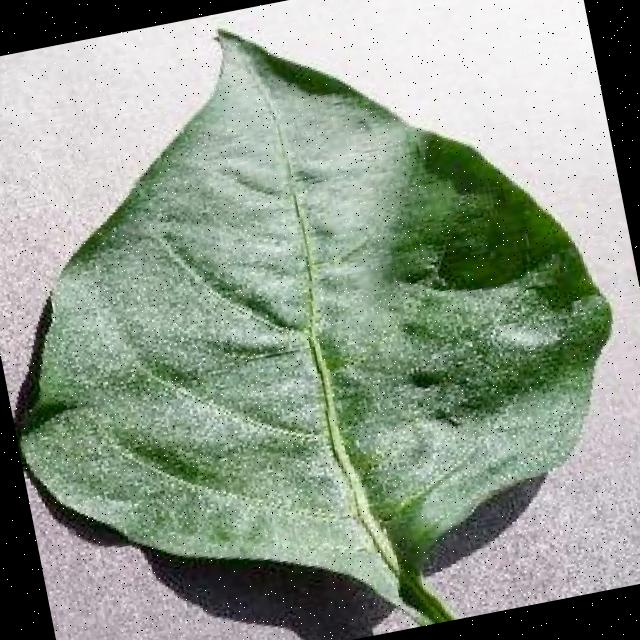Leaf: (1, 32, 640, 603)
